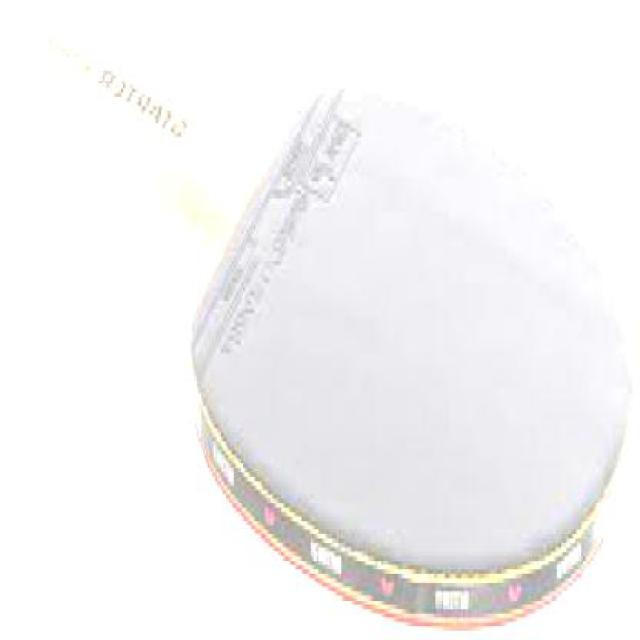table_tennis_racket: (189, 56, 640, 638)
